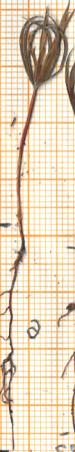flower: (11, 0, 74, 89)
root: (0, 225, 30, 452)
stem: (13, 89, 41, 228)
